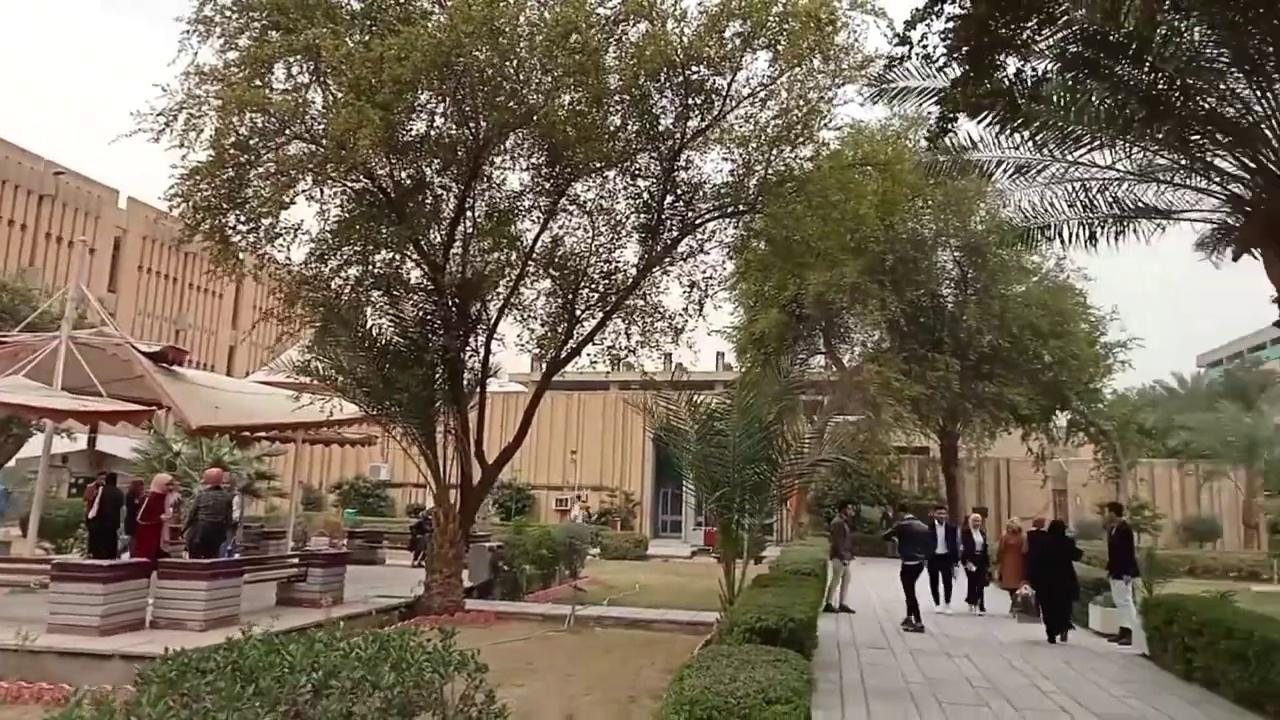person: (1031, 519, 1084, 643), (881, 501, 931, 631), (1102, 501, 1140, 646), (181, 466, 236, 558), (822, 499, 856, 613), (130, 472, 174, 560), (926, 504, 960, 613), (86, 471, 124, 559), (995, 516, 1028, 616), (960, 512, 990, 615), (124, 478, 147, 557), (409, 508, 433, 567)
tree: (110, 0, 873, 616), (719, 117, 1144, 561), (858, 0, 1279, 330), (619, 355, 898, 617), (47, 617, 512, 718), (1134, 362, 1279, 551), (126, 408, 288, 551), (327, 472, 391, 521), (594, 483, 640, 531), (489, 475, 534, 523)
